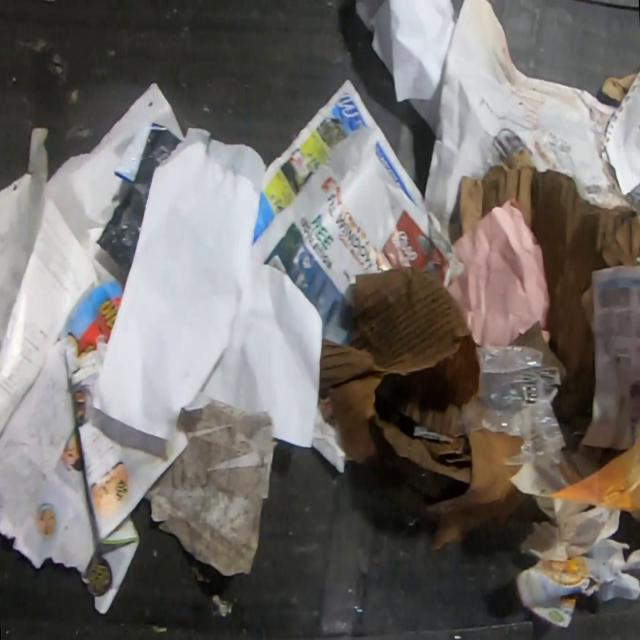cardboard: (457, 161, 640, 430), (416, 431, 532, 552), (369, 415, 471, 500), (516, 554, 618, 628), (600, 72, 638, 103)
soft_plastic: (424, 344, 568, 471)
